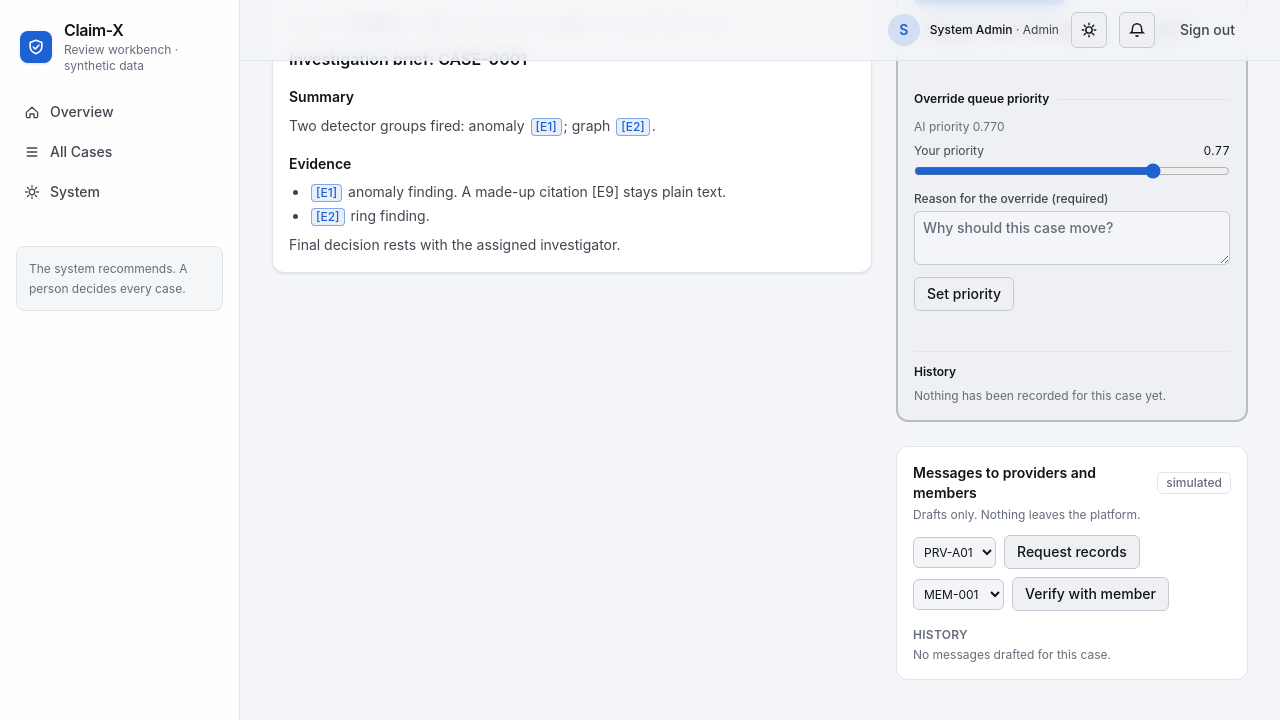
Test case: messages to providers and members › shows the server message when a draft cannot be created
(page scrolled)
What coordinates should you click on to do the following:
click the button "Request records"
I would click on:
 (1072, 552)
Its box is [1004,535,1140,569].
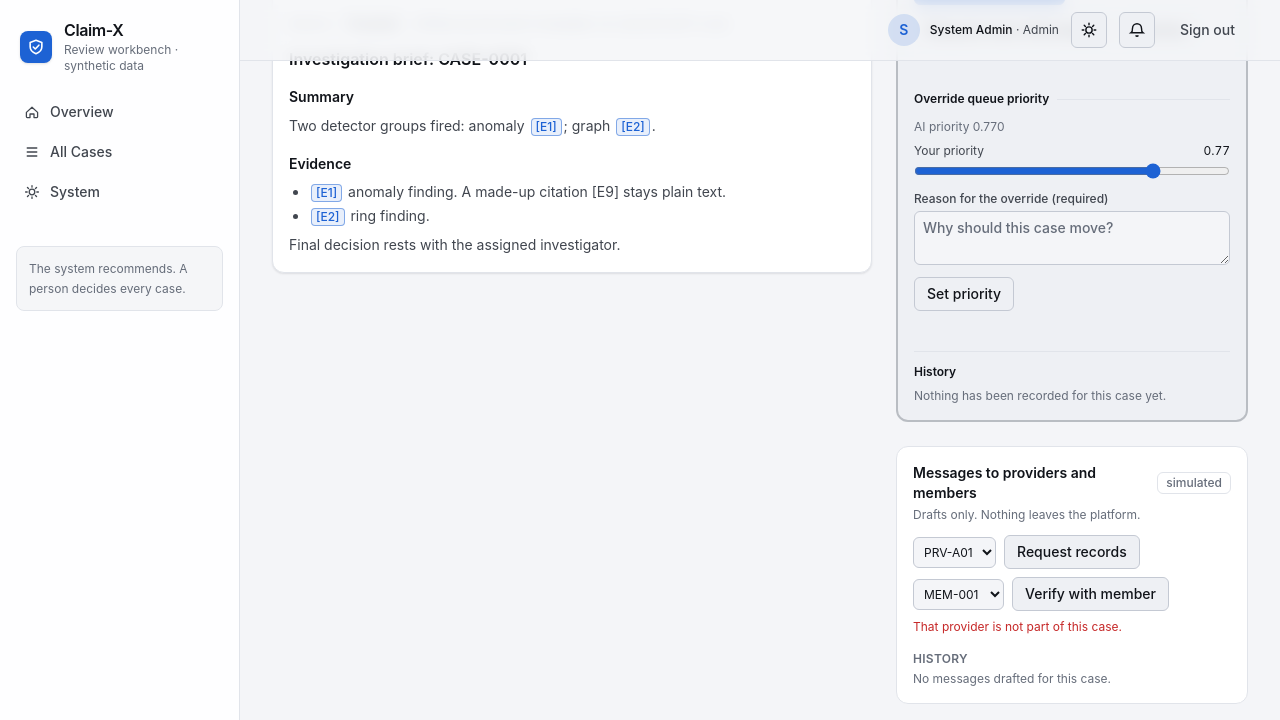
Result: the message with test id "outbound-error" reads "That provider is not part of this case." at [913,619,1122,634]
